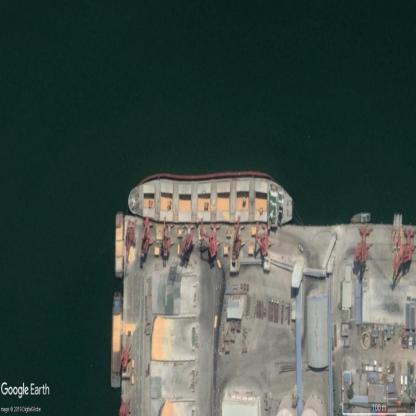ship: (129, 174, 295, 226), (350, 212, 370, 223)
